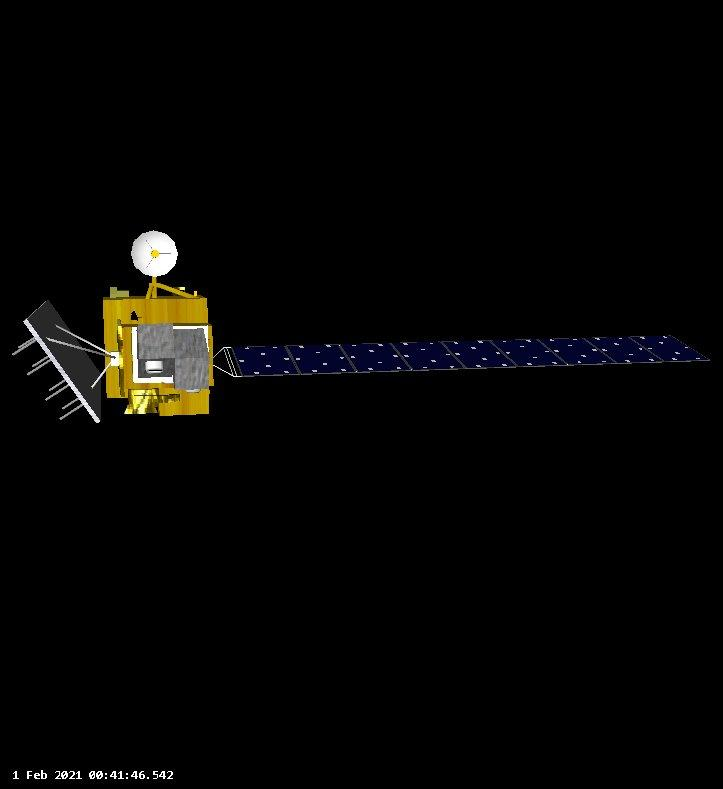antenna: (130, 229, 180, 278)
body: (101, 283, 216, 418)
solar: (228, 331, 712, 379)
